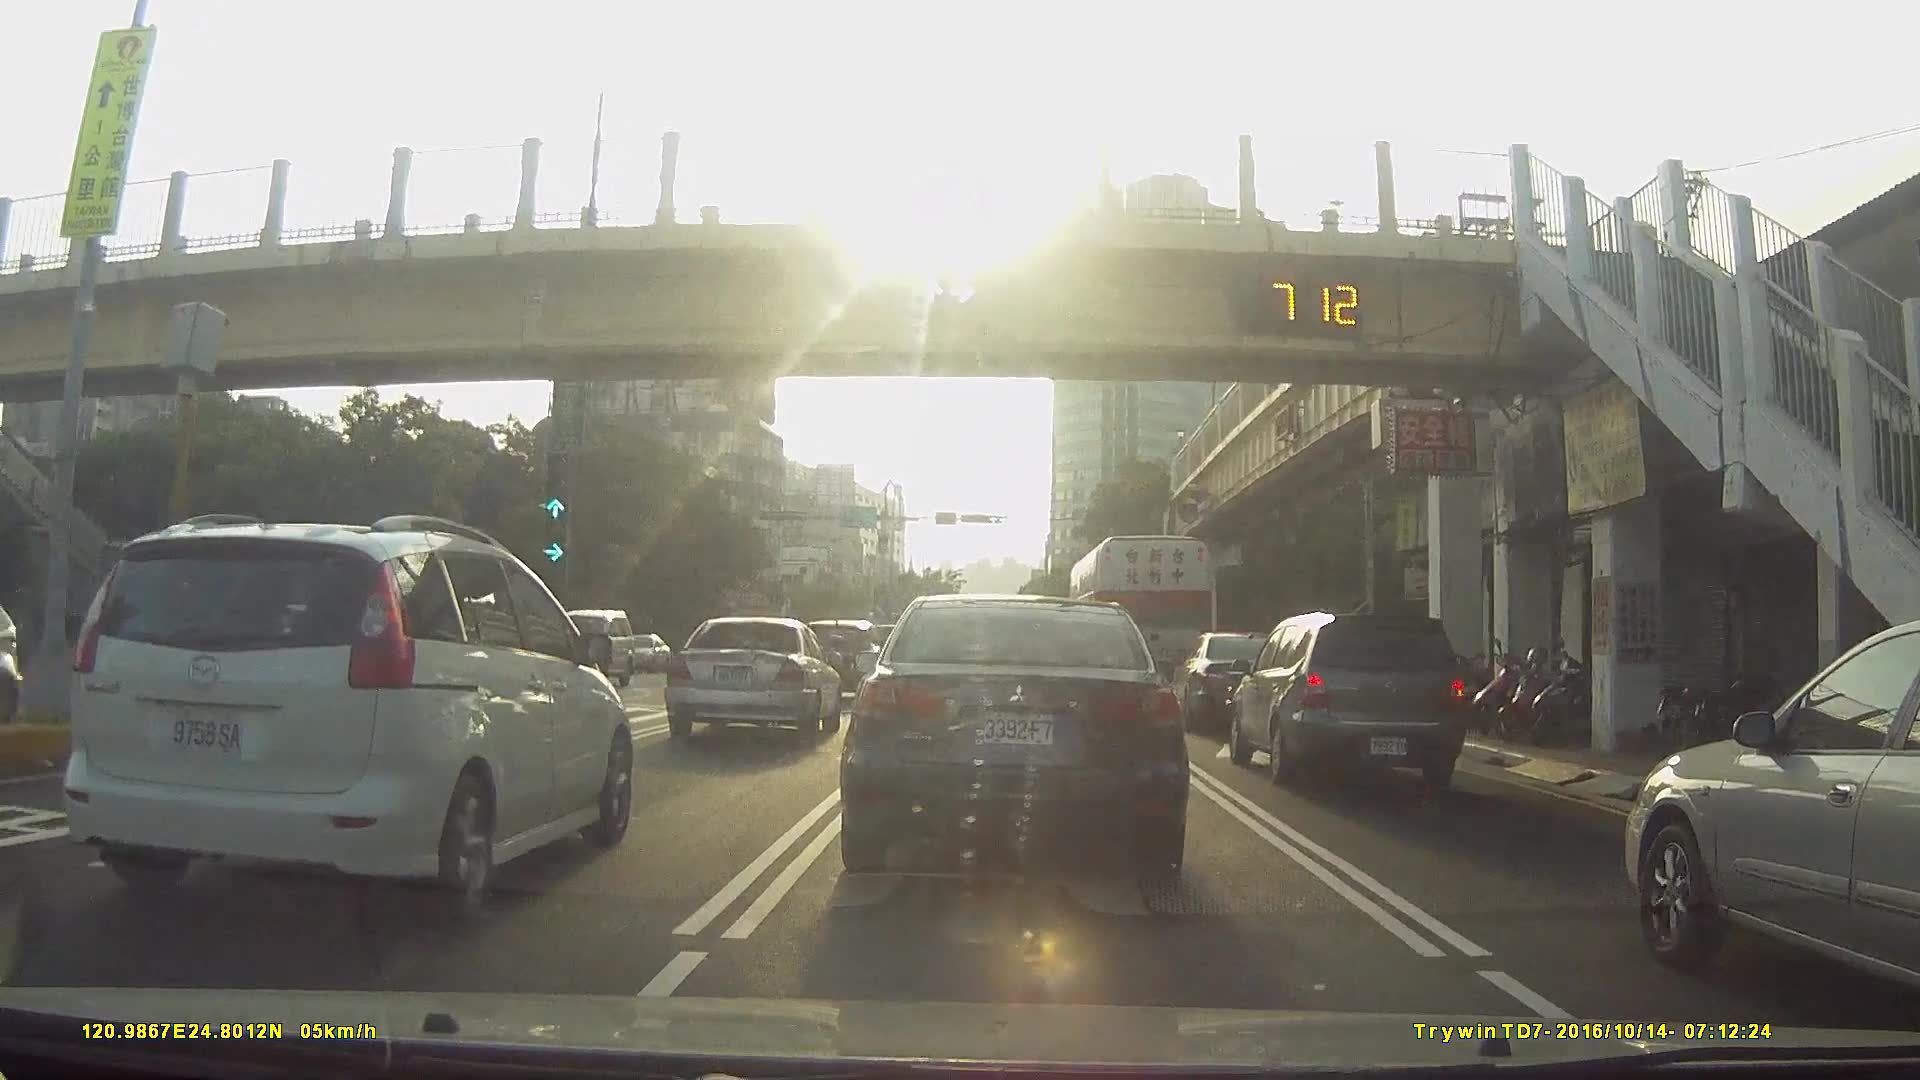vehicle: (55, 512, 634, 916), (1615, 617, 1920, 1015), (841, 588, 1187, 902), (1224, 608, 1466, 794), (1067, 534, 1226, 698), (663, 615, 841, 742), (1166, 628, 1292, 731), (533, 603, 637, 686), (791, 612, 880, 690), (618, 629, 678, 676)
